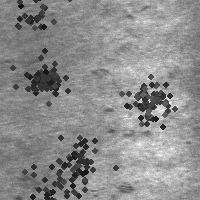rolled-in_scale: (4, 139, 104, 200), (8, 44, 76, 112), (44, 125, 112, 193), (90, 67, 150, 136), (117, 68, 179, 130), (0, 0, 71, 46)
